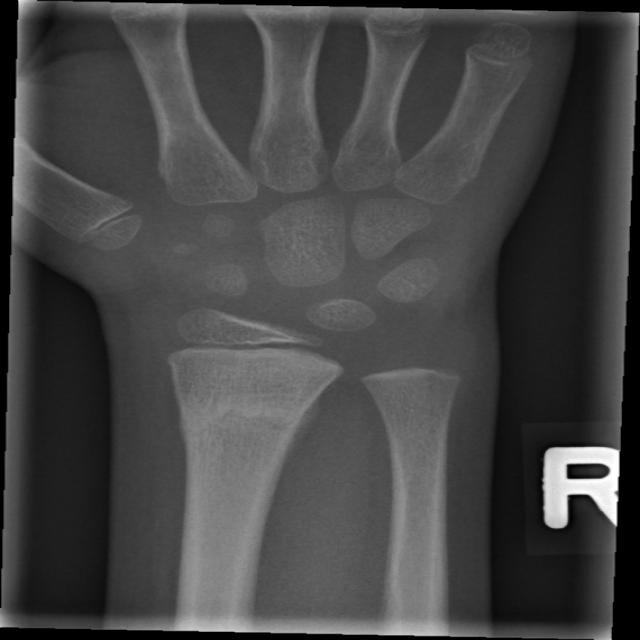radius fracture: (133, 382, 343, 468)
